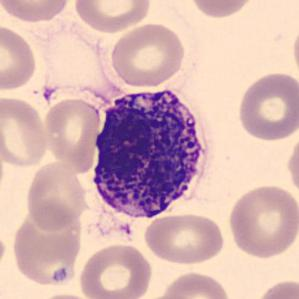Basophil: (85, 82, 216, 228)
Platelets: (51, 265, 70, 284)
RBC: (10, 204, 86, 289), (225, 181, 298, 260), (108, 20, 187, 90), (23, 159, 89, 232), (141, 211, 228, 266), (235, 69, 298, 143), (42, 95, 102, 172), (76, 241, 154, 299), (0, 94, 50, 169), (72, 0, 153, 35), (0, 22, 39, 92), (160, 269, 233, 299), (0, 0, 72, 24), (186, 0, 259, 20), (252, 276, 298, 299), (284, 131, 299, 198), (290, 19, 299, 80), (32, 291, 97, 299), (136, 293, 196, 299), (0, 226, 7, 275)
